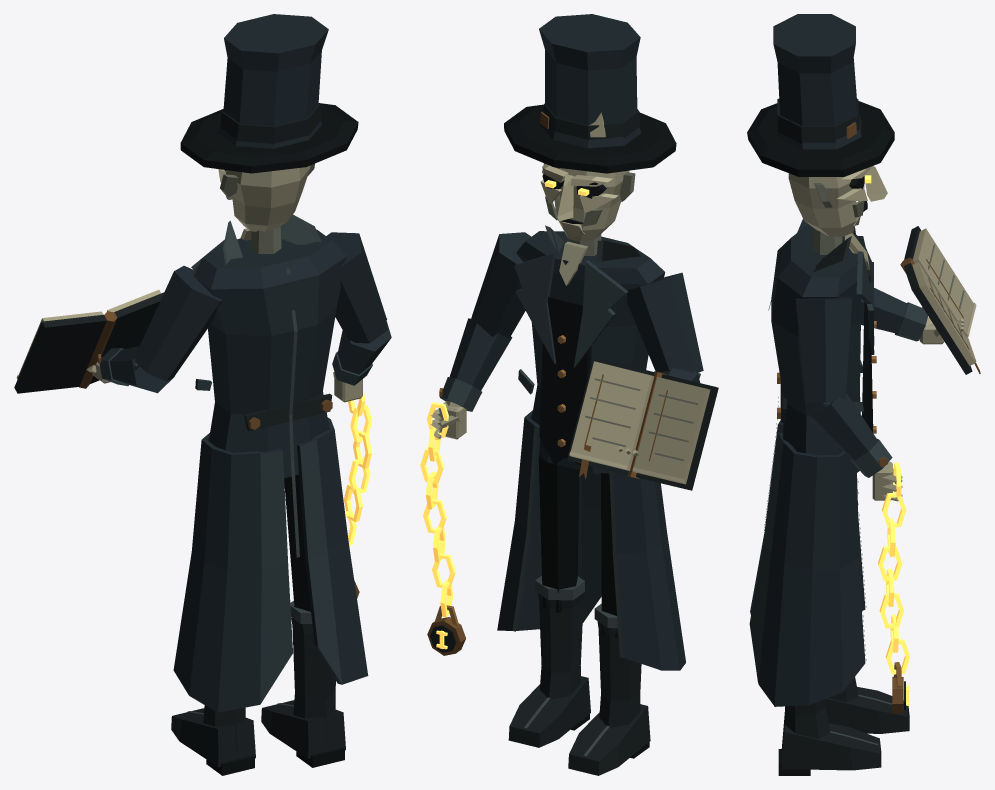
The model's file is debt_collector.glb.
The picture shows the model from 3 angles, left to right: view 1: azimuth 30°, elevation 25°; view 2: azimuth 150°, elevation 25°; view 3: azimuth 270°, elevation 25°; orthographic projection. The views are drawn at different scales.
Parts seen in each view (by area): view 1: debt_collector; view 2: debt_collector; view 3: debt_collector.
Part boxes in pixels (left/top/right/bottom): debt_collector: left=14, top=14, right=391, bottom=775; debt_collector: left=420, top=14, right=718, bottom=775; debt_collector: left=747, top=14, right=980, bottom=775.
Bounding box in the file's own units: 1.21 × 2.65 × 0.7855.
